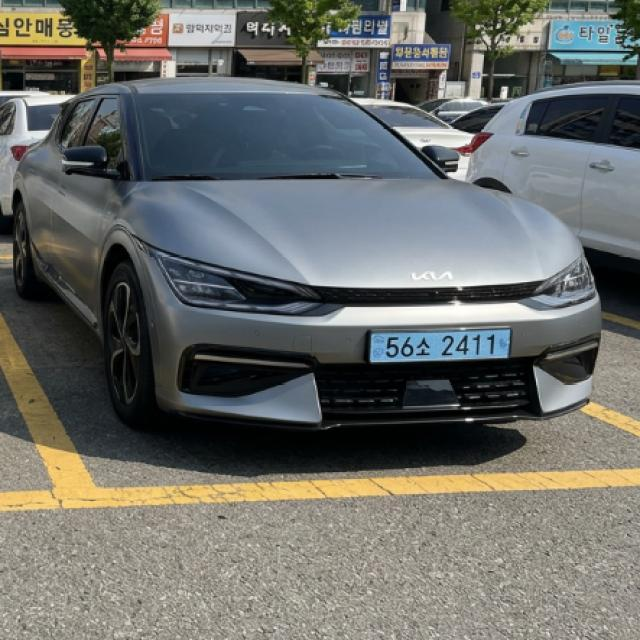car: (357, 321, 526, 378)
carev: (494, 328, 512, 364), (368, 330, 385, 366)
